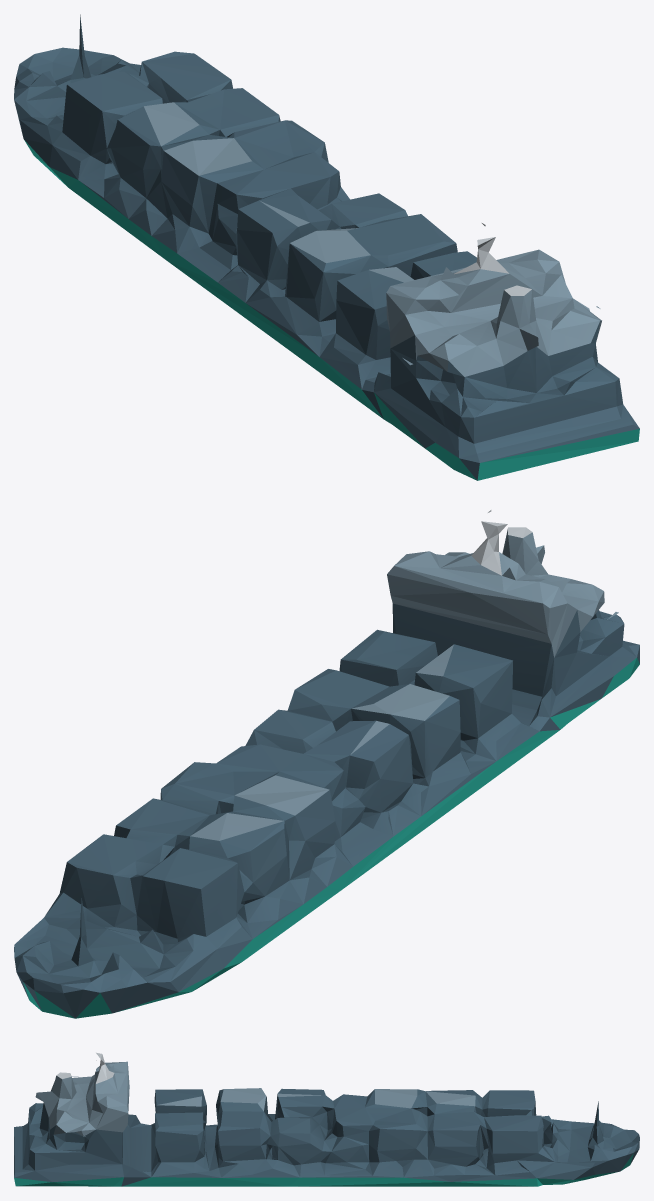
Rendered from cargo.glb.
The picture shows the model from 3 angles, top to bottom: view 1: azimuth 30°, elevation 25°; view 2: azimuth 150°, elevation 25°; view 3: azimuth 270°, elevation 25°; orthographic projection. The views are drawn at different scales.
Parts seen in each view (by area): view 1: lod0; view 2: lod0; view 3: lod0.
Boxes of the visible parts, x1,y1,x2,y2 form: lod0: (14, 14, 639, 480); lod0: (14, 510, 639, 1018); lod0: (14, 1052, 639, 1186).
Size of what is drawn, in the model's own units: 0.2262 by 0.2003 by 0.9962.
